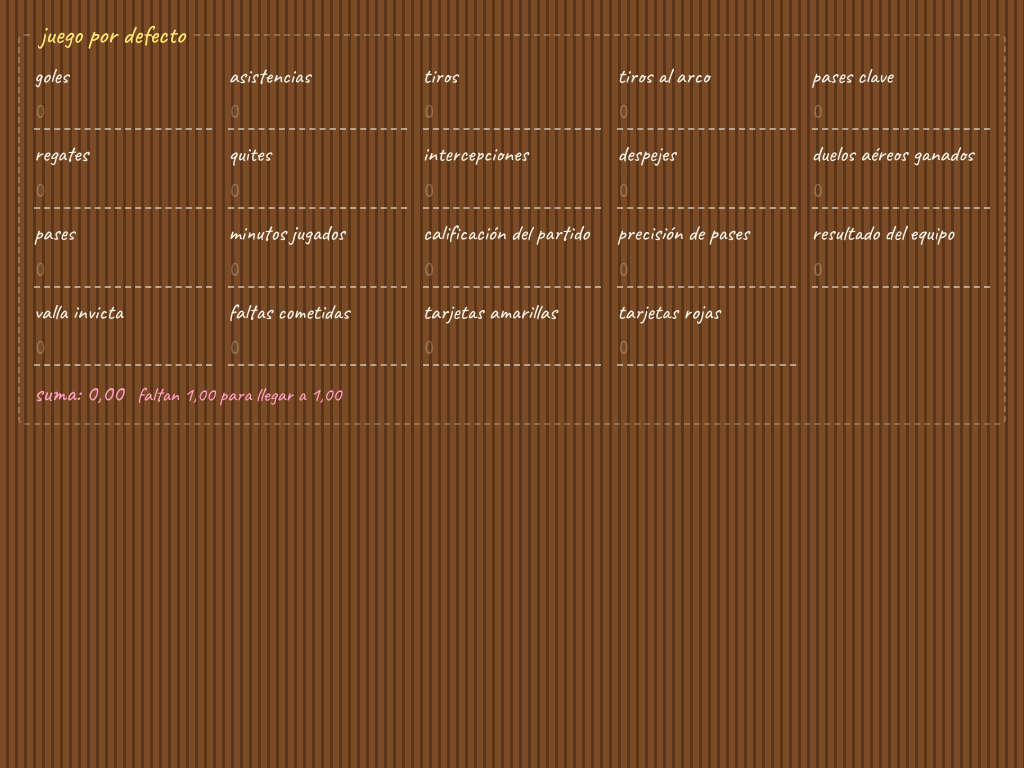
WeightsEditor › avisa cuánto falta o sobra para 1,00
Type "0,95" into the field labelled "goles" at (123, 112), box [34, 94, 212, 130]
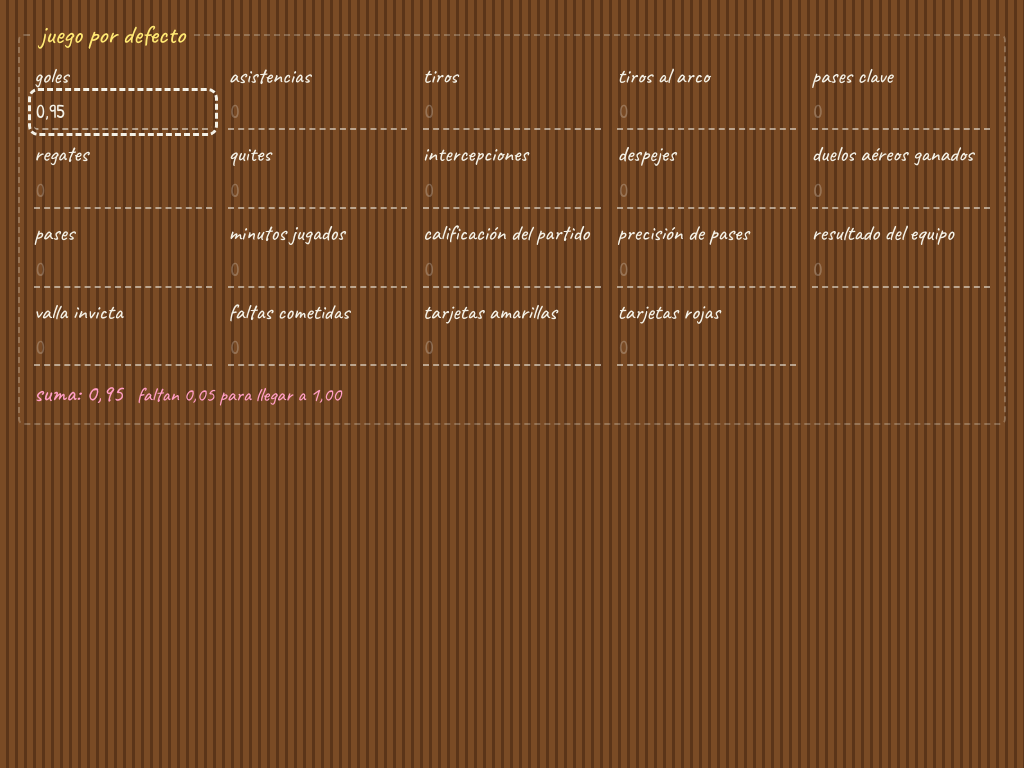
Expected: the text "faltan 0,05 para llegar a 1,00" is shown, [137, 382, 341, 408]
Type "0,1" into the field labelled "asistencias" at (318, 112), box [228, 94, 407, 130]
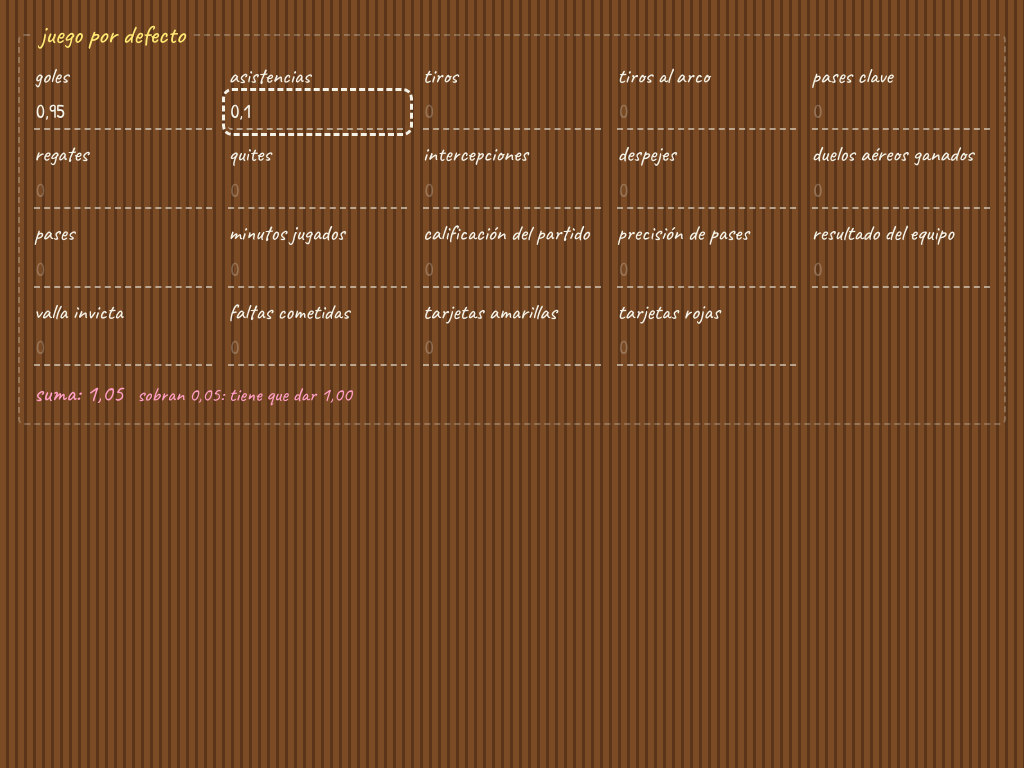
Expected: the text "suma: 1,05" is shown, [34, 378, 123, 409]
Expected: the text "sobran 0,05: tiene que dar 1,00" is shown, [137, 382, 352, 408]
